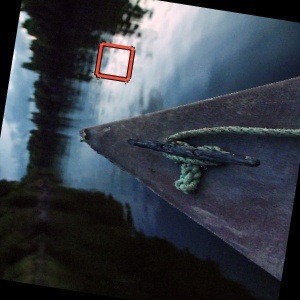square: (94, 40, 138, 85)
